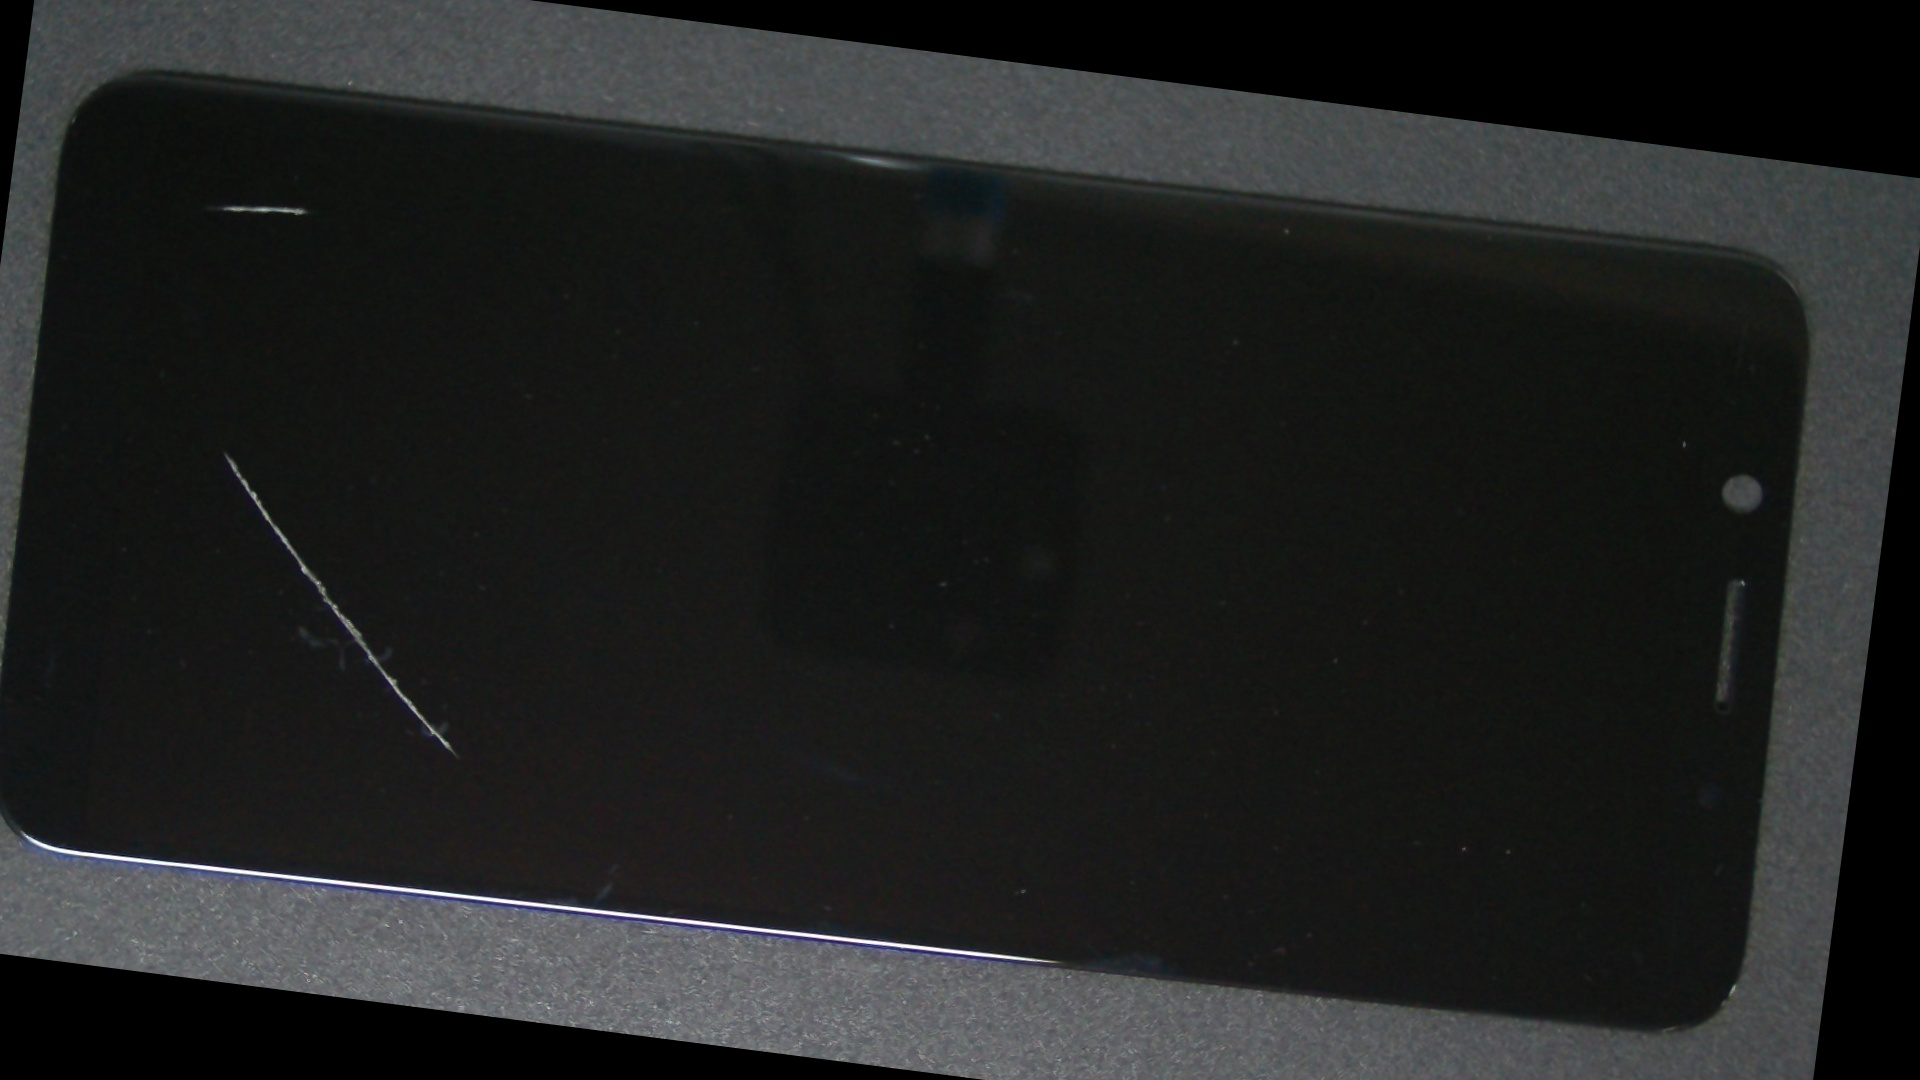oil: (71, 194, 377, 707), (140, 73, 454, 343)
